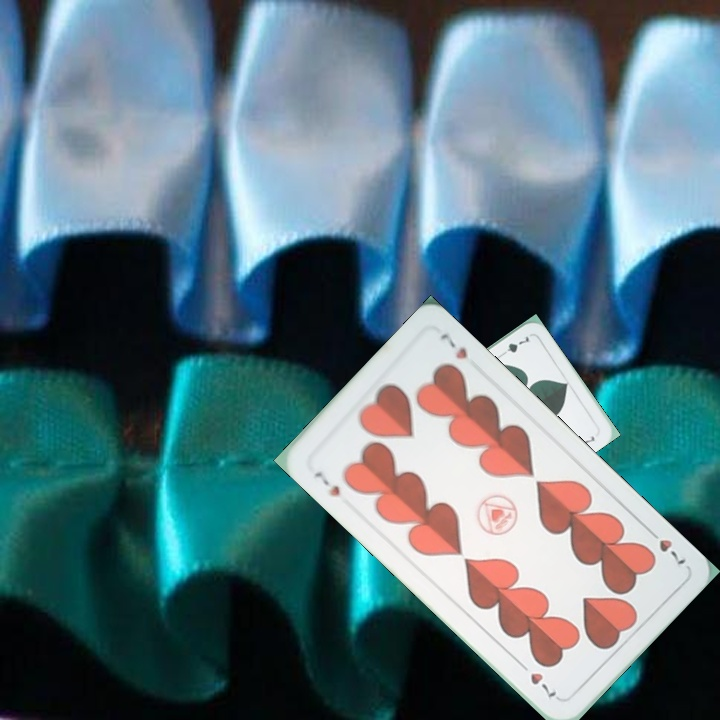G7: (496, 332, 532, 359)
H7: (643, 524, 689, 568), (310, 467, 343, 499)
